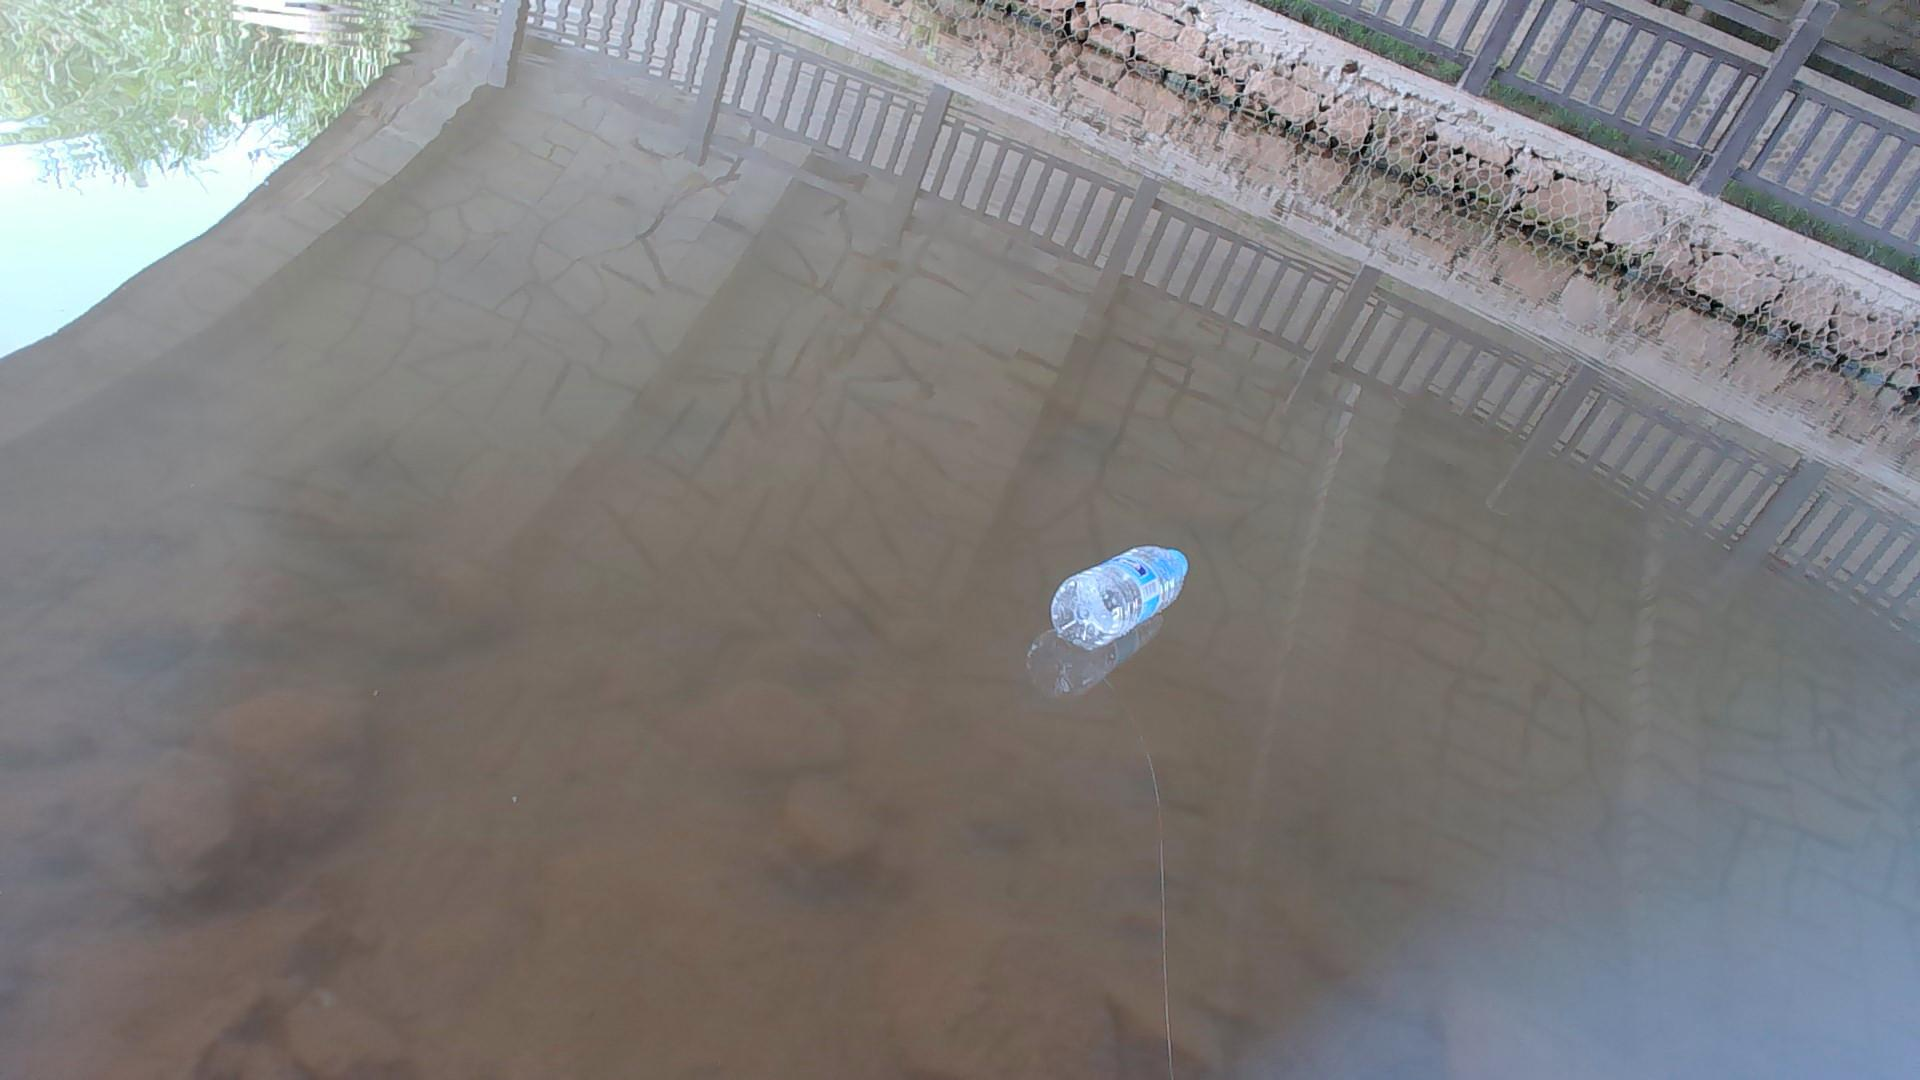Plastic: (1048, 537, 1191, 651)
